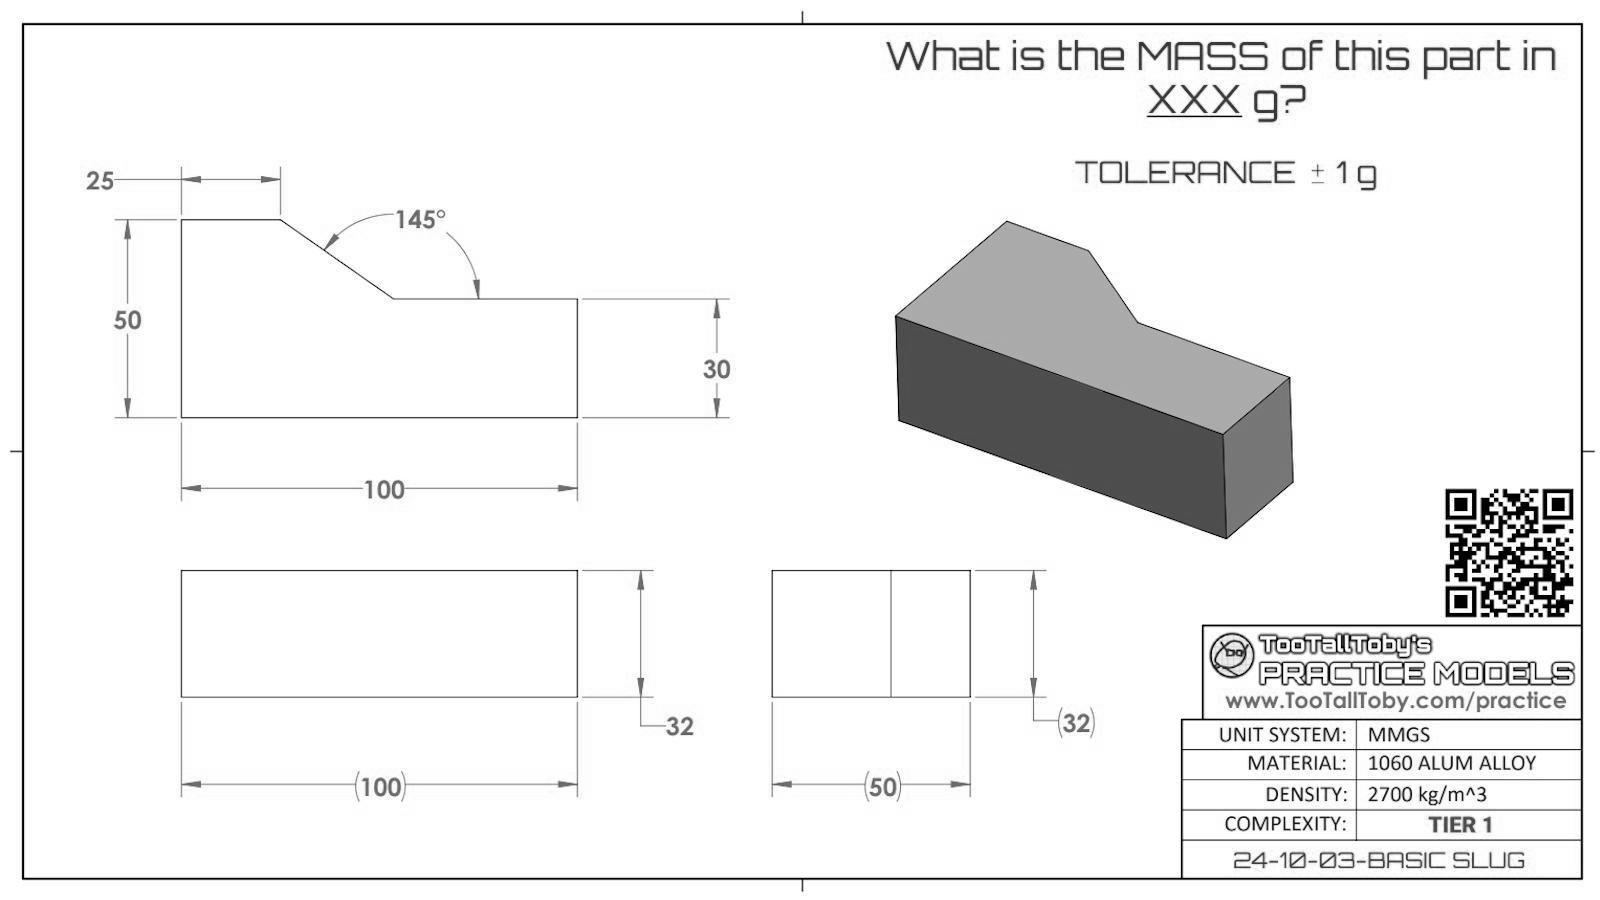-: (1311, 162, 1327, 185)
0: (390, 479, 407, 500), (377, 477, 391, 499), (882, 776, 897, 798), (126, 310, 142, 330), (388, 777, 403, 797), (374, 777, 388, 797), (718, 359, 731, 379), (1390, 786, 1402, 803), (1402, 786, 1413, 803)
1: (1336, 160, 1348, 185), (362, 776, 371, 800), (396, 209, 405, 230), (365, 478, 374, 500)
1060AlumAlloy: (1368, 753, 1540, 775)
2: (1076, 712, 1091, 734), (85, 170, 100, 190), (679, 715, 693, 736), (1368, 786, 1379, 803)
3: (666, 715, 679, 736), (702, 359, 716, 378), (1064, 713, 1076, 734)
4: (408, 209, 423, 230)
5: (99, 169, 114, 191), (868, 776, 884, 797), (422, 208, 436, 229), (113, 310, 126, 330)
7: (1378, 786, 1390, 803)
Degrees: (436, 208, 446, 220)
Density: (1266, 786, 1348, 807)
MMGS: (1367, 724, 1431, 744)
Material: (1246, 754, 1348, 773)
UnitSystem: (1218, 725, 1348, 746)
X: (1179, 82, 1210, 115), (1147, 82, 1178, 114), (1211, 82, 1241, 114)
grams: (1253, 89, 1278, 123), (1357, 165, 1377, 191)
